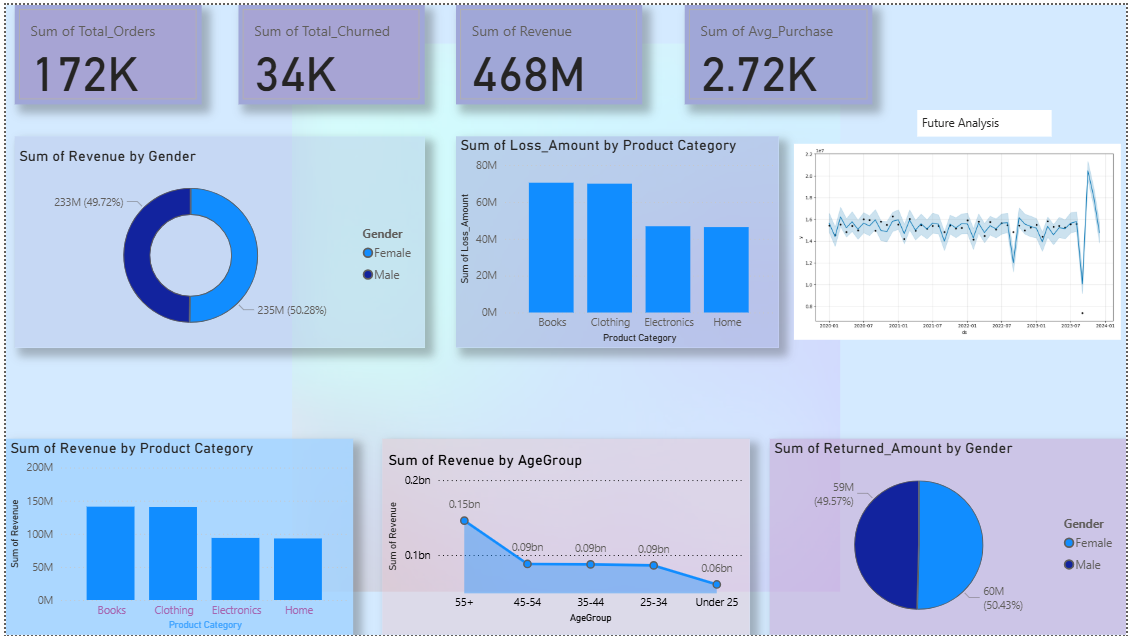

What the dashboard file says about the page in this screenshot:
{"tool":"powerbi","page":{"name":"Page 1","canvas":[1280,720],"ordinal":0},"visuals":[{"type":"columnChart","fields":{"Category":["PUARCHE BY product.Product Category"],"Y":["Sum(PUARCHE BY product.Revenue)"]},"box":[0,495.7,397.1,224.3],"z":0},{"type":"donutChart","fields":{"Category":["revenve generated by gender.Gender"],"Y":["Sum(revenve generated by gender.Revenue)"]},"box":[10,150,468.6,241.4],"z":1000},{"type":"lineChart","fields":{"Category":["revenue by age.AgeGroup"],"Y":["Sum(revenue by age.Revenue)"]},"box":[430,495.7,420,224.3],"z":2000},{"type":"cardVisual","fields":{"Data":["Sum(AVG PURCHASE.Avg_Purchase)"]},"box":[775.3,0,214.1,113.9],"z":3000},{"type":"cardVisual","fields":{"Data":["Sum(PUARCHE BY product.Revenue)"]},"box":[514.6,0,212.7,113.9],"z":4000},{"type":"cardVisual","fields":{"Data":["Sum(total revenue.Total_Orders)"]},"box":[10,0,213.8,113.8],"z":5000},{"type":"cardVisual","fields":{"Data":["Sum(churn customer.Total_Churned)"]},"box":[266.2,0,212.7,113.9],"z":6000},{"type":"pieChart","fields":{"Category":["return by gender.Gender"],"Y":["Sum(return by gender.Returned_Amount)"]},"box":[872.9,495.7,407.1,224.3],"z":6001},{"type":"columnChart","fields":{"Category":["lose.Product Category"],"Y":["Sum(lose.Loss_Amount)"]},"box":[514.3,150,368.6,241.4],"z":6002},{"type":"image","box":[896.4,71.8,383.6,398.2],"z":6003},{"type":"textbox","box":[1040.9,120,153.6,30],"z":6004}]}

Visuals, with their boxes in screenshot pixels (x1, y1, x2, y2), scaled from the page's 1280x720 canvas onto the 1128x636 screenshot:
columnChart - PUARCHE BY product.Product Category x Sum(PUARCHE BY product.Revenue): box(0, 438, 350, 635)
donutChart - revenve generated by gender.Gender x Sum(revenve generated by gender.Revenue): box(9, 132, 422, 346)
lineChart - revenue by age.AgeGroup x Sum(revenue by age.Revenue): box(379, 438, 749, 635)
cardVisual - Sum(AVG PURCHASE.Avg_Purchase): box(683, 0, 872, 101)
cardVisual - Sum(PUARCHE BY product.Revenue): box(453, 0, 641, 101)
cardVisual - Sum(total revenue.Total_Orders): box(9, 0, 197, 101)
cardVisual - Sum(churn customer.Total_Churned): box(235, 0, 422, 101)
pieChart - return by gender.Gender x Sum(return by gender.Returned_Amount): box(769, 438, 1127, 635)
columnChart - lose.Product Category x Sum(lose.Loss_Amount): box(453, 132, 778, 346)
image: box(790, 63, 1127, 415)
textbox: box(917, 106, 1053, 132)
